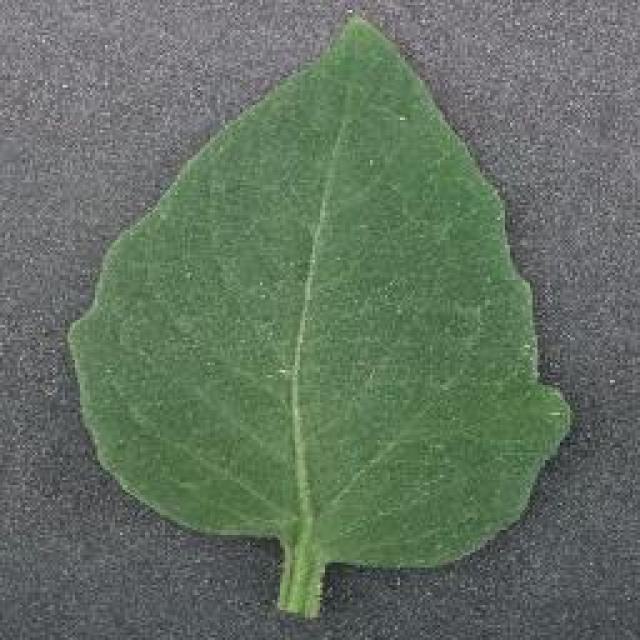Tomato_Healthy: (65, 12, 582, 568)
